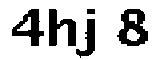4: (8, 5, 45, 51)
8: (114, 6, 150, 49)
h: (46, 6, 81, 51)
j: (76, 4, 98, 60)
